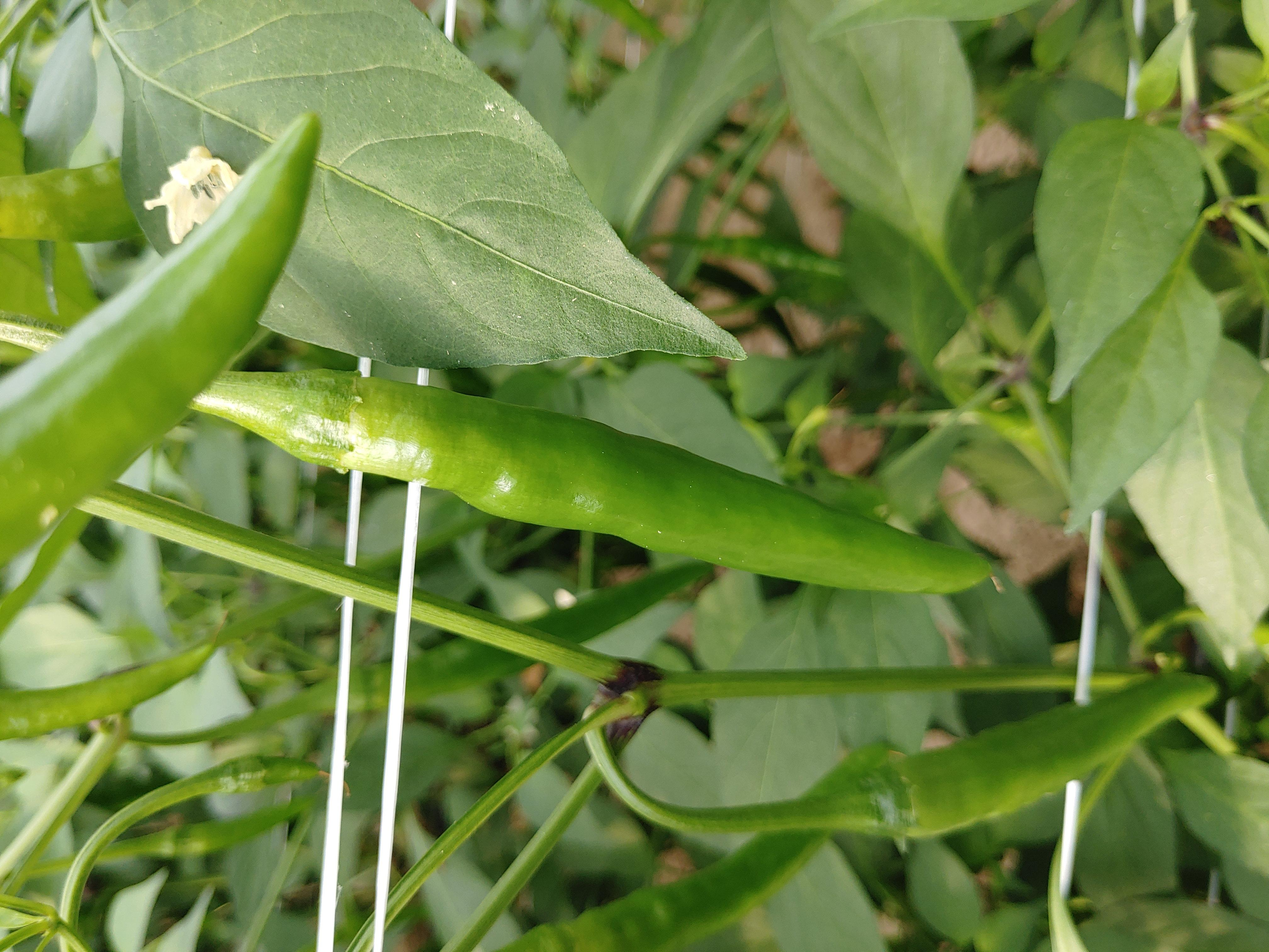Buah Cabai Sehat: (186, 361, 996, 602), (851, 679, 1221, 842)
Daun Cabai Sehat: (120, 5, 752, 372)
